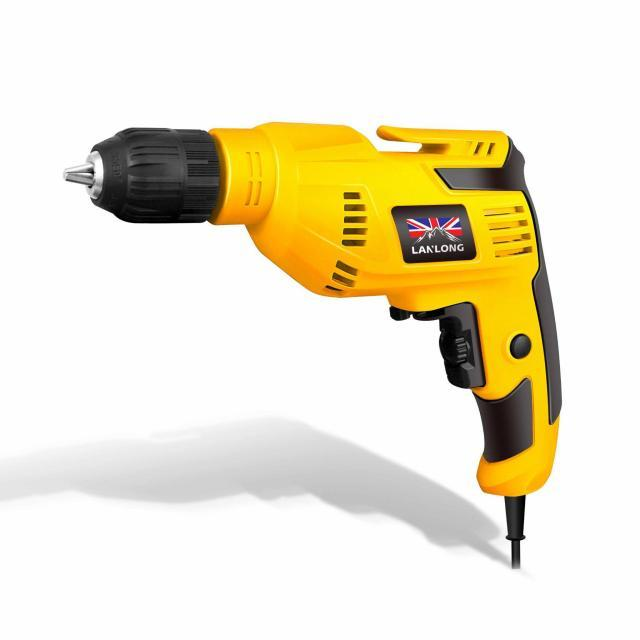drill: (61, 121, 562, 568)
